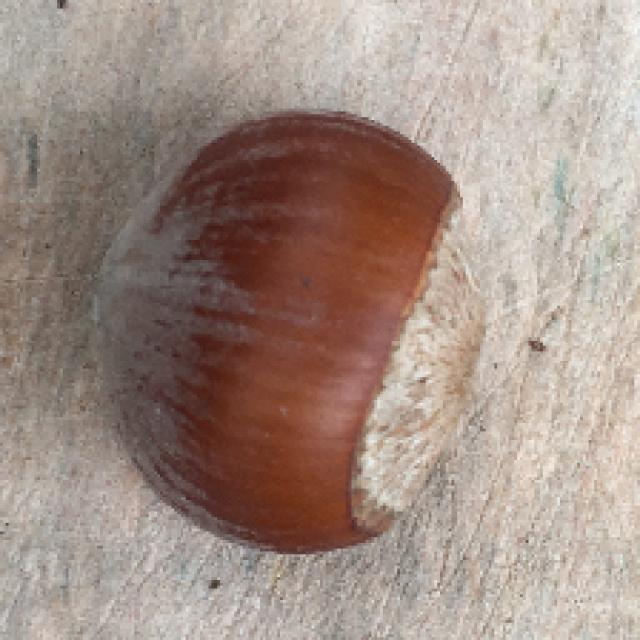qualityHazelnut: (88, 104, 489, 557)
